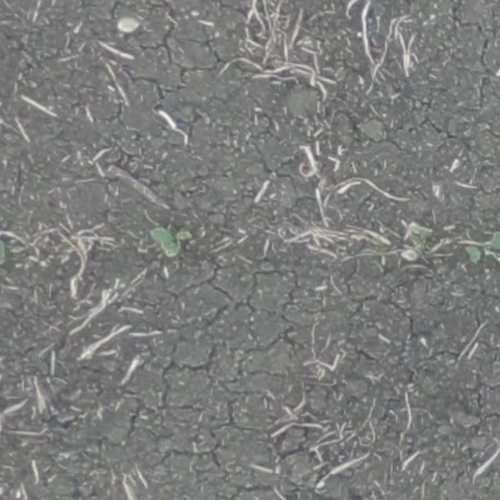isolated: (151, 224, 191, 256), (466, 231, 499, 266), (0, 218, 7, 261)
